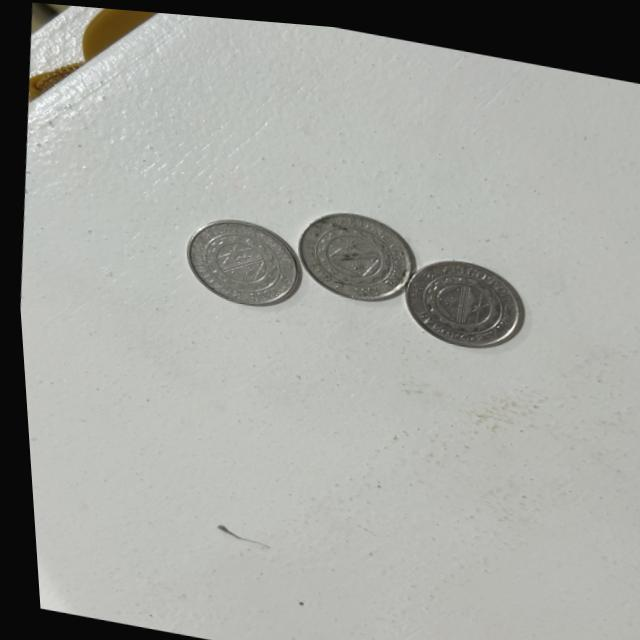1_Old_Back: (304, 212, 403, 293), (412, 254, 509, 330), (193, 221, 287, 297)
